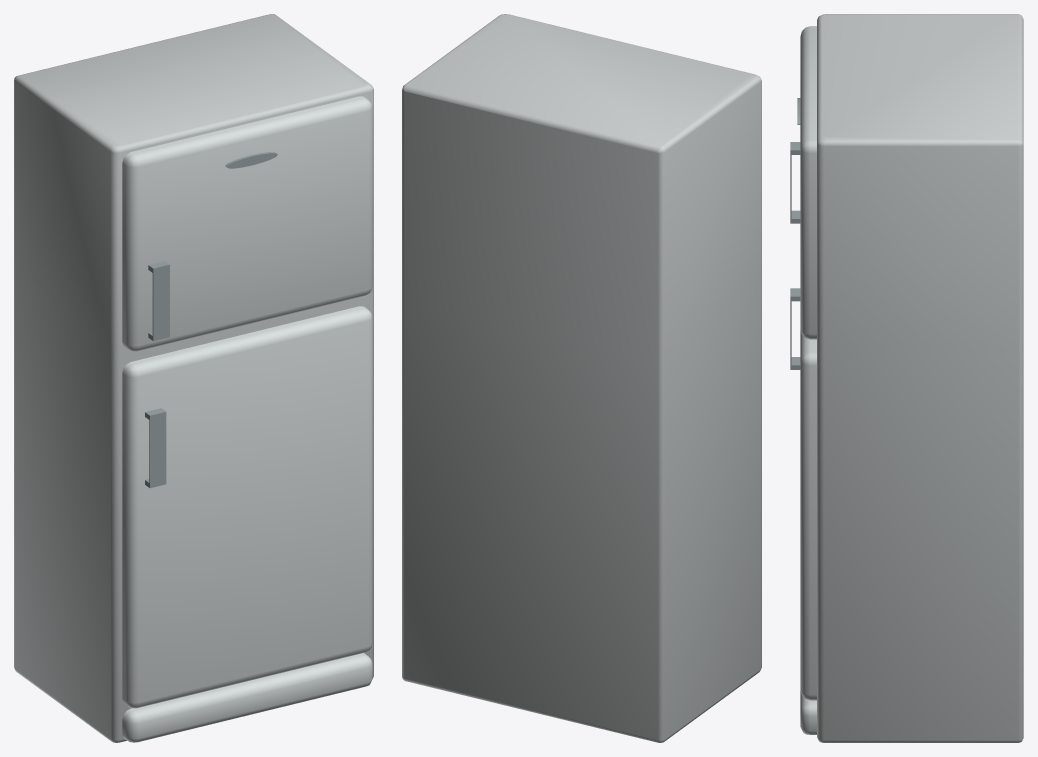
File: Frige.fbx
3 renders of one model, left to right at view 1: azimuth 30°, elevation 25°; view 2: azimuth 150°, elevation 25°; view 3: azimuth 270°, elevation 25°, orthographic.
Visible parts, largest first — view 1: Frige; view 2: Frige; view 3: Frige.
Boxes of the visible parts, x1,y1,x2,y2 form: Frige: (14, 14, 373, 742); Frige: (402, 14, 761, 742); Frige: (790, 14, 1023, 742).
Bounding box in the file's own units: 0.9275 × 2.01 × 0.7056.
